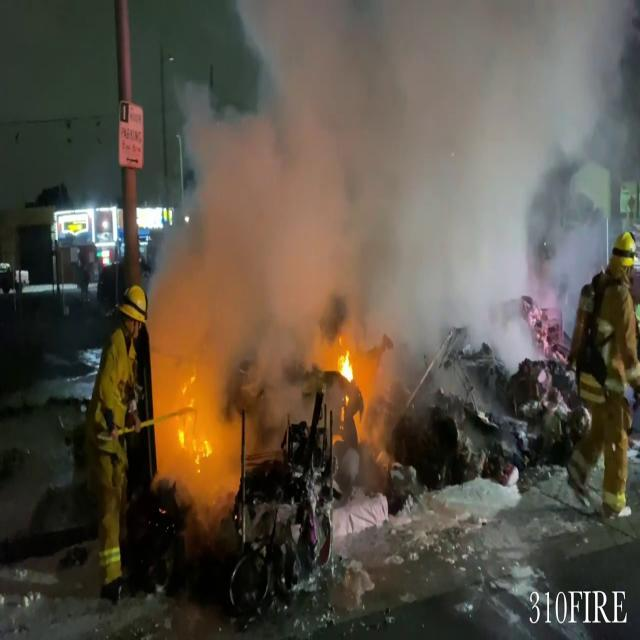Fire: (331, 340, 364, 408)
Smoke: (148, 2, 636, 372)
